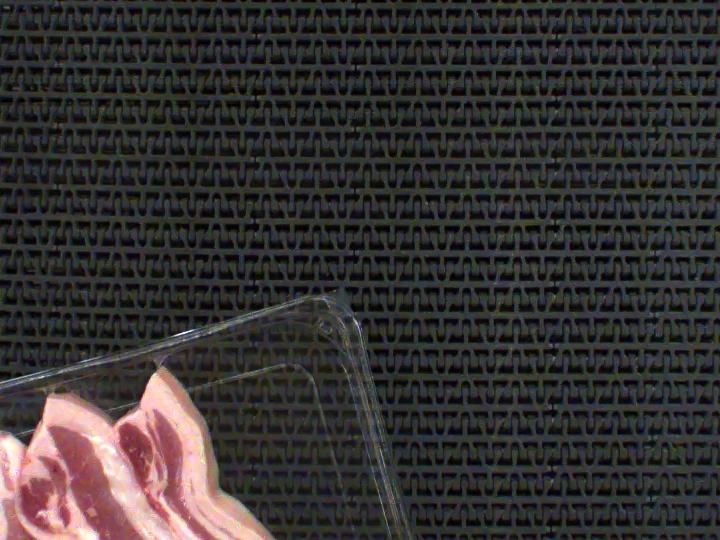packaging-error: (146, 347, 171, 370)
